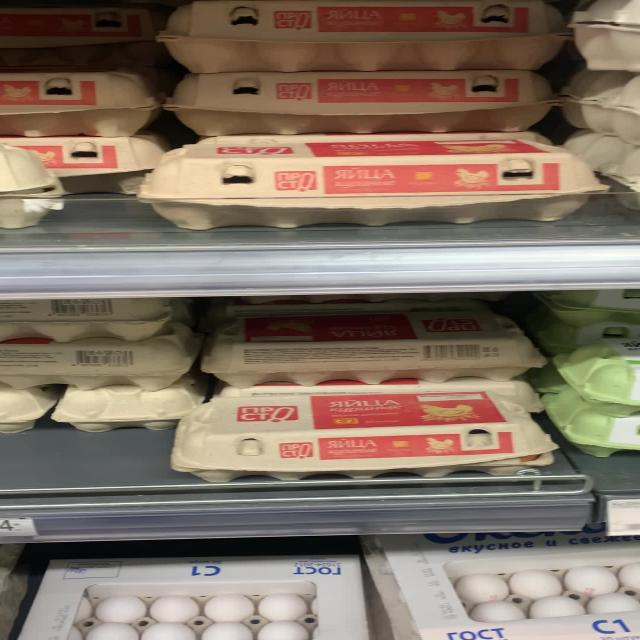egg box: (137, 140, 594, 227), (35, 548, 352, 636), (152, 2, 570, 68), (367, 532, 627, 632), (196, 305, 552, 378), (163, 392, 544, 460), (164, 68, 561, 133)
